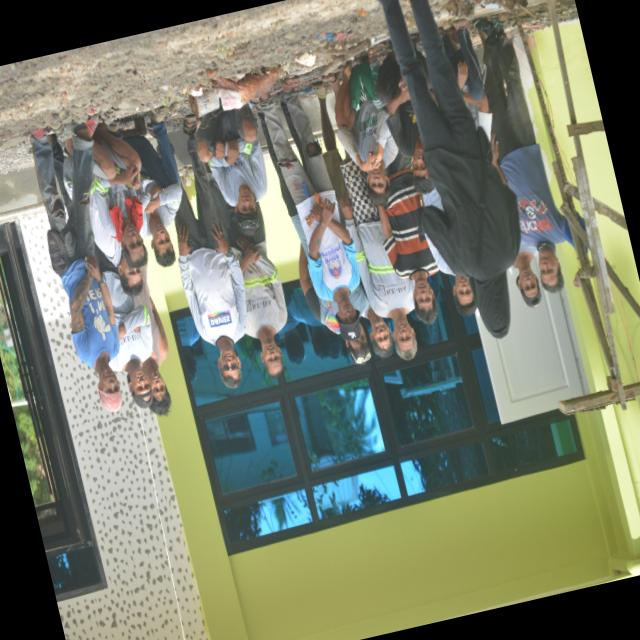person: (380, 0, 520, 337), (474, 11, 573, 292), (32, 114, 122, 410), (260, 77, 360, 340), (256, 103, 339, 336), (175, 116, 246, 387), (206, 165, 287, 376), (339, 151, 417, 359), (378, 151, 438, 323), (95, 245, 153, 407), (196, 104, 267, 234), (123, 111, 182, 266), (335, 59, 397, 205), (376, 43, 433, 193), (91, 125, 148, 267), (443, 18, 492, 137), (134, 266, 171, 415), (312, 80, 348, 200), (426, 235, 476, 315), (287, 286, 329, 357), (514, 239, 542, 306), (177, 316, 199, 382), (280, 308, 305, 363)
